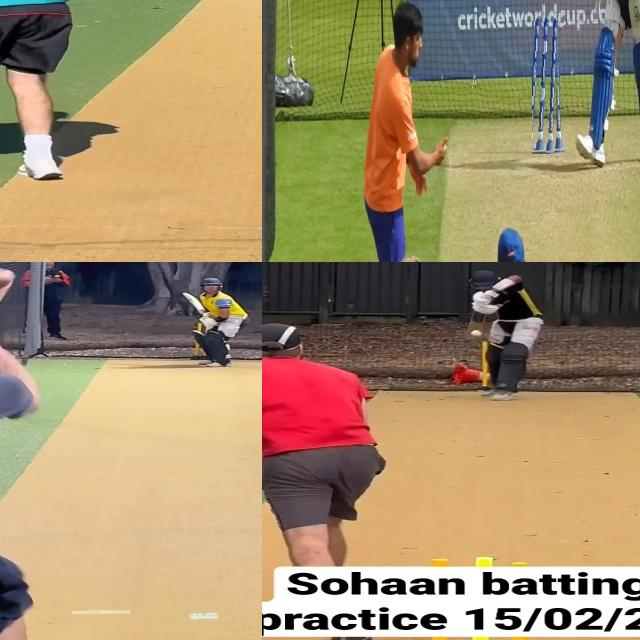Cricket ball: (470, 330, 483, 336)
Stumps: (532, 13, 564, 154)
